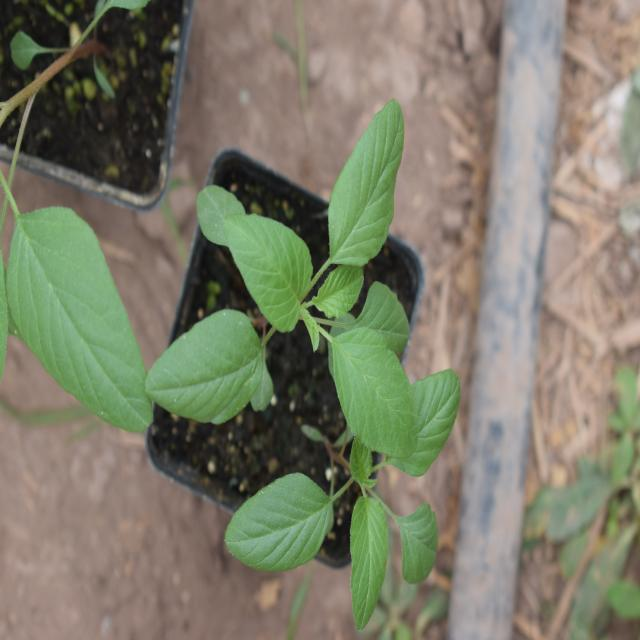pigweed: (169, 152, 434, 468)
